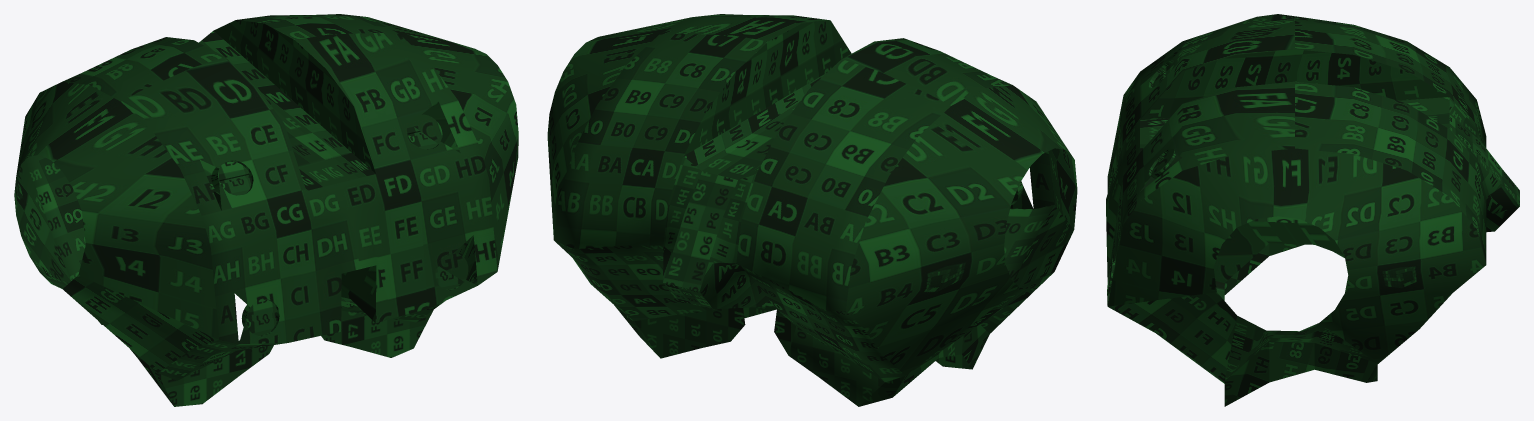
The model's file is TORSO_V6.fbx.
3 renders of one model, left to right at view 1: azimuth 30°, elevation 25°; view 2: azimuth 150°, elevation 25°; view 3: azimuth 270°, elevation 25°, orthographic. The views are drawn at different scales.
Parts seen in each view (by area): view 1: pasted__pCylinder1; view 2: pasted__pCylinder1; view 3: pasted__pCylinder1.
Part boxes in pixels (<box>): pasted__pCylinder1: <box>14,14,518,406</box>; pasted__pCylinder1: <box>547,14,1077,406</box>; pasted__pCylinder1: <box>1106,14,1519,406</box>.
Bounding box in the file's own units: 2.54 × 1.7 × 2.19.
1 material, 1 textured.
